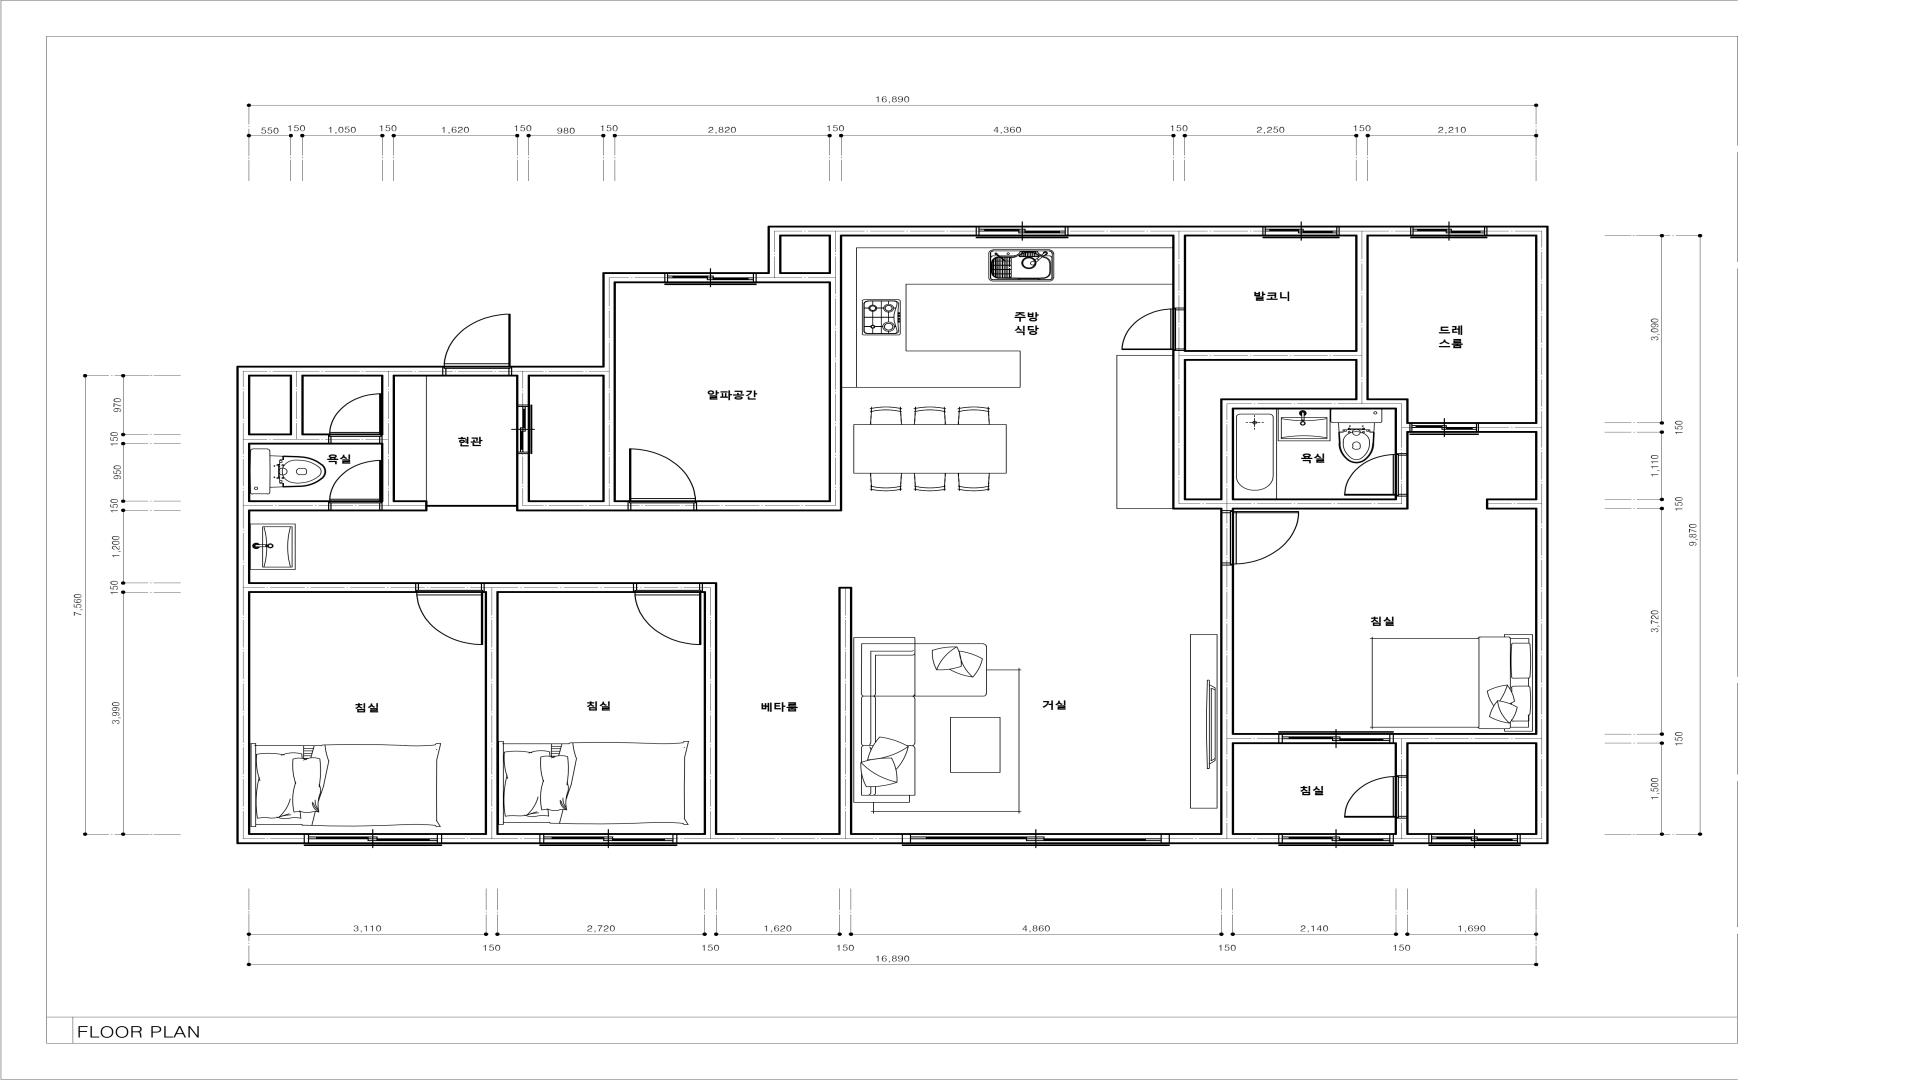door: (1220, 510, 1299, 566), (634, 582, 704, 645), (443, 313, 512, 376), (628, 448, 697, 511), (416, 582, 485, 645), (1121, 308, 1186, 351), (1344, 453, 1409, 496), (1344, 775, 1409, 818), (328, 393, 381, 445), (329, 460, 381, 511), (1409, 422, 1479, 435)
wall: (1535, 237, 1549, 833), (236, 377, 250, 844), (1220, 566, 1234, 833), (838, 587, 853, 833), (829, 237, 842, 500), (485, 593, 499, 833), (704, 582, 717, 833), (1186, 498, 1394, 510), (678, 833, 902, 844), (237, 366, 443, 377), (1355, 237, 1369, 398), (1172, 351, 1186, 510), (781, 226, 975, 237), (1068, 226, 1262, 237), (1186, 350, 1355, 361), (251, 582, 415, 593), (1234, 398, 1394, 409), (697, 500, 842, 512), (381, 377, 395, 500), (602, 377, 616, 500), (485, 582, 634, 593), (1394, 733, 1535, 744), (1220, 398, 1234, 498), (516, 500, 627, 512), (602, 272, 616, 365), (512, 365, 616, 377), (1170, 833, 1279, 844), (442, 833, 540, 844), (1172, 237, 1186, 308), (250, 500, 328, 511), (250, 433, 328, 444), (1340, 225, 1410, 237), (290, 377, 304, 433), (1395, 398, 1409, 453), (1488, 225, 1549, 237), (516, 454, 530, 500), (1479, 422, 1535, 433), (768, 225, 781, 272), (1486, 498, 1535, 510), (251, 833, 304, 844), (381, 500, 428, 512), (616, 272, 664, 283), (782, 272, 829, 283), (1234, 733, 1278, 744), (1395, 744, 1409, 775), (516, 377, 530, 405), (1394, 833, 1429, 844), (1521, 833, 1549, 844), (757, 272, 782, 283), (1395, 818, 1409, 833), (1395, 496, 1409, 509)
window: (903, 833, 1170, 846), (304, 833, 442, 846), (540, 833, 678, 846), (1278, 731, 1394, 744), (1279, 833, 1394, 846), (1429, 833, 1521, 846), (664, 272, 756, 285), (976, 226, 1067, 239), (1262, 225, 1340, 239), (1410, 225, 1487, 238)
